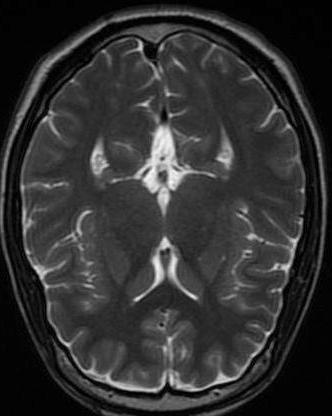Normal_Brain: (1, 1, 331, 416)
